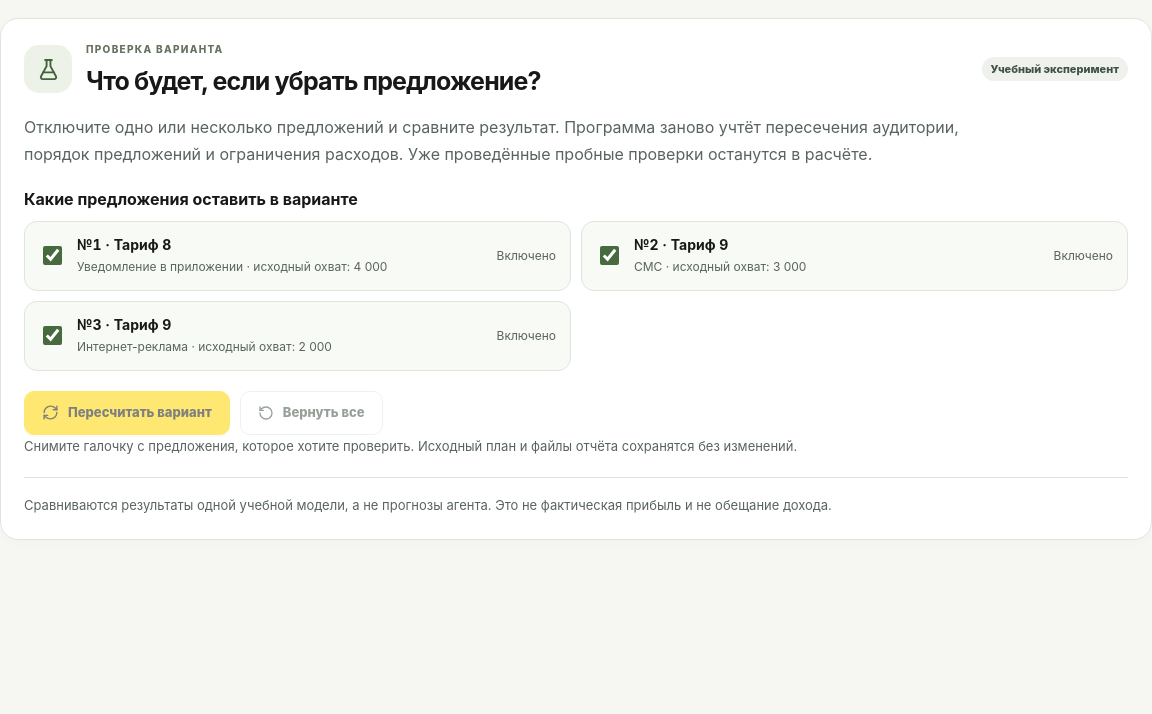
Test: shows retryable server errors and labels an empty alternative as exploratory
Click the 1st checkbox: (52, 256) [43,246,62,265]
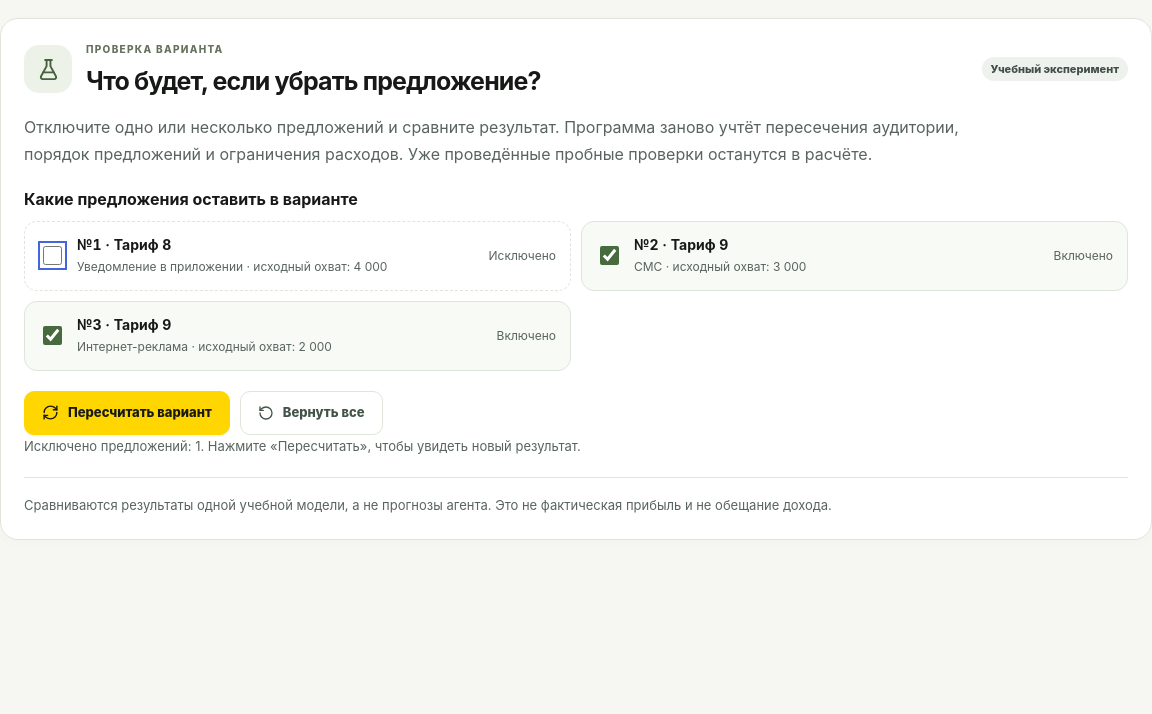
Click the button "Пересчитать вариант": (127, 413) [24,391,230,435]
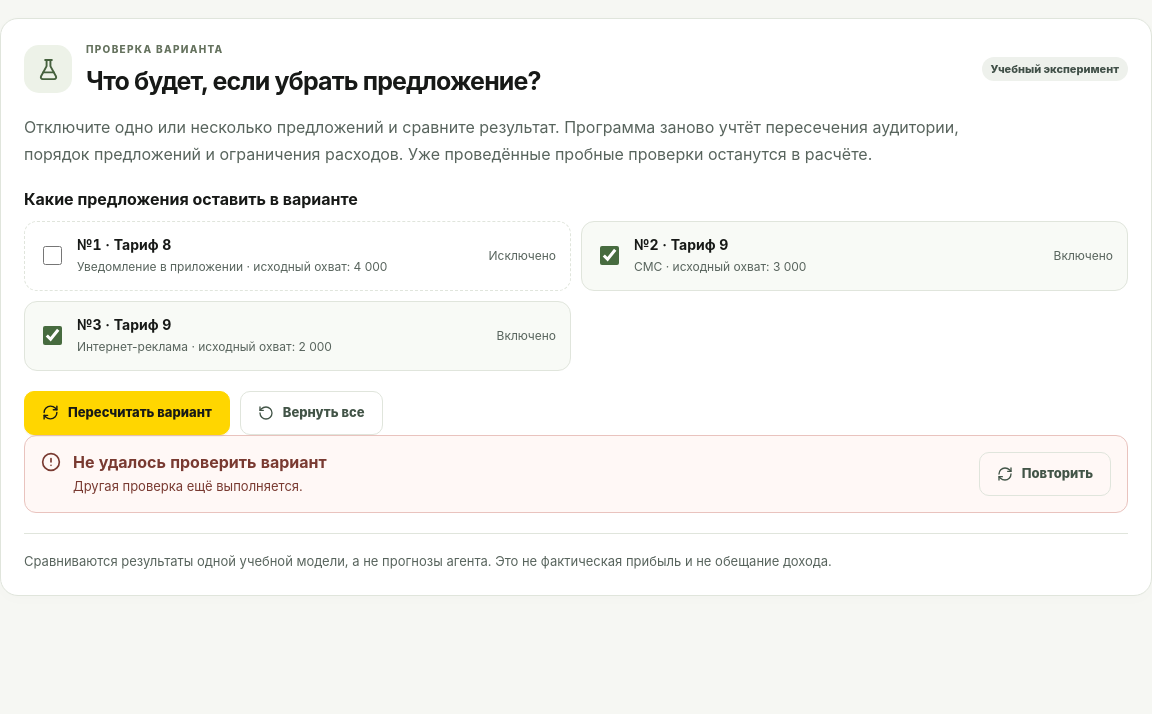
Result: the message shows "Другая проверка ещё выполняется." at [73,478,303,494]
Click the button "Повторить": (1045, 474) [979,452,1111,496]
(page scrolled)
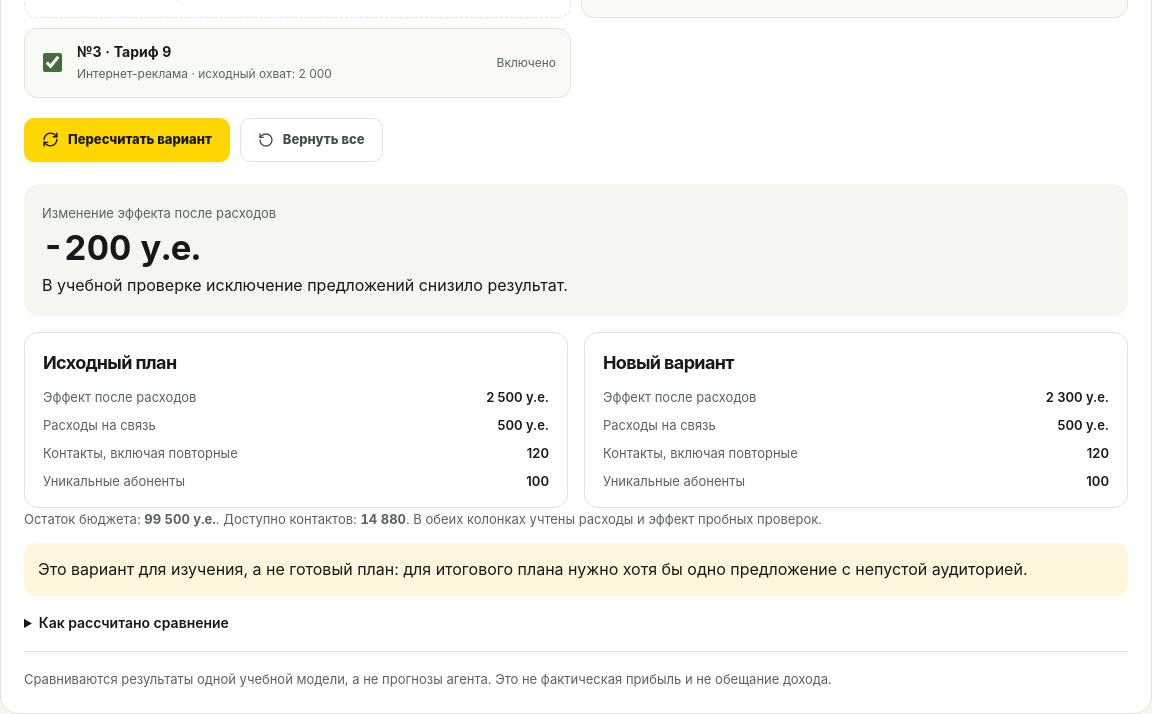
Result: the text "Это вариант для изучения, а не готовый план" is shown at [38,559,1028,579]
